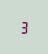three: (19, 20, 27, 33)
